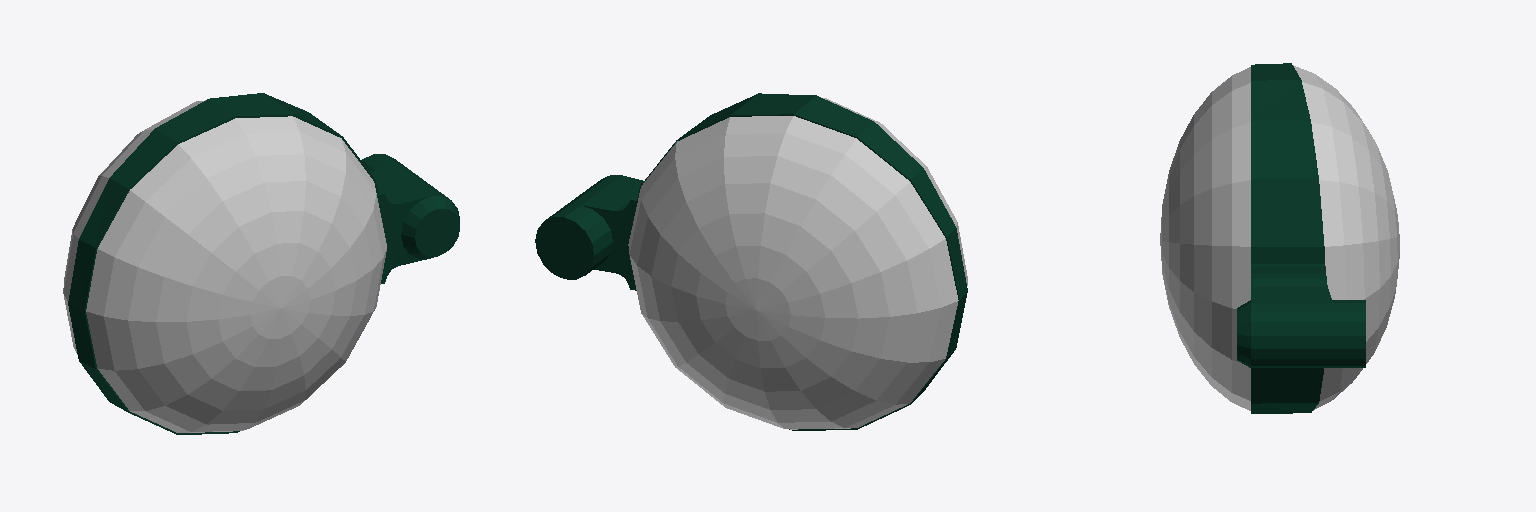
3 views of the same model, side by side, from view 1: azimuth 30°, elevation 25°; view 2: azimuth 150°, elevation 25°; view 3: azimuth 270°, elevation 25° (orthographic).
Visible parts, largest first — view 1: Glas_oben_Sphere.003, BezierCurve.001_BezierCurve.011, Cylinder_Cylinder.002, Glas_unten_Sphere.002; view 2: Glas_unten_Sphere.002, BezierCurve.001_BezierCurve.011, Cylinder_Cylinder.002, Glas_oben_Sphere.003; view 3: Glas_oben_Sphere.003, Glas_unten_Sphere.002, BezierCurve.001_BezierCurve.011, Cylinder_Cylinder.002.
Part boxes in pixels (x1,y1,x2,y2): Glas_oben_Sphere.003: (86,116,386,432); BezierCurve.001_BezierCurve.011: (68,93,386,434); Cylinder_Cylinder.002: (361,154,459,283); Glas_unten_Sphere.002: (63,100,205,354); Glas_unten_Sphere.002: (628,116,958,429); BezierCurve.001_BezierCurve.011: (628,93,967,430); Cylinder_Cylinder.002: (535,175,643,290); Glas_oben_Sphere.003: (823,98,967,285); Glas_oben_Sphere.003: (1160,67,1250,410); Glas_unten_Sphere.002: (1293,65,1399,410); BezierCurve.001_BezierCurve.011: (1251,63,1324,413); Cylinder_Cylinder.002: (1237,264,1365,367).
Bounding box in the file's own units: 0.5765 × 0.4598 × 0.3154.
Materials: 5 (1 with a texture image).